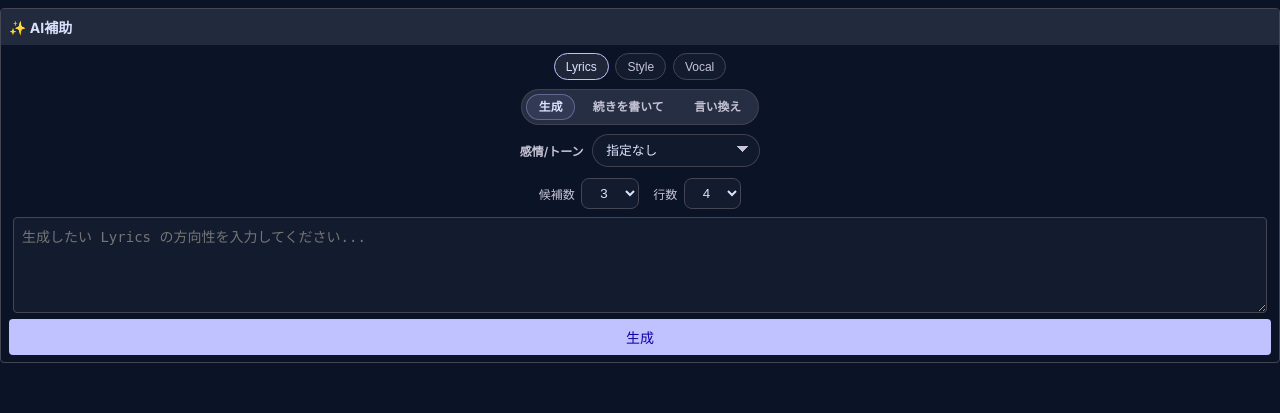
Test: LLMAssistPanel › error handling › should show error when baseUrl is not localhost
What coordinates should you click on to do the following:
click the button "生成"
I would click on:
 (640, 337)
Its box is [9,319,1271,355].
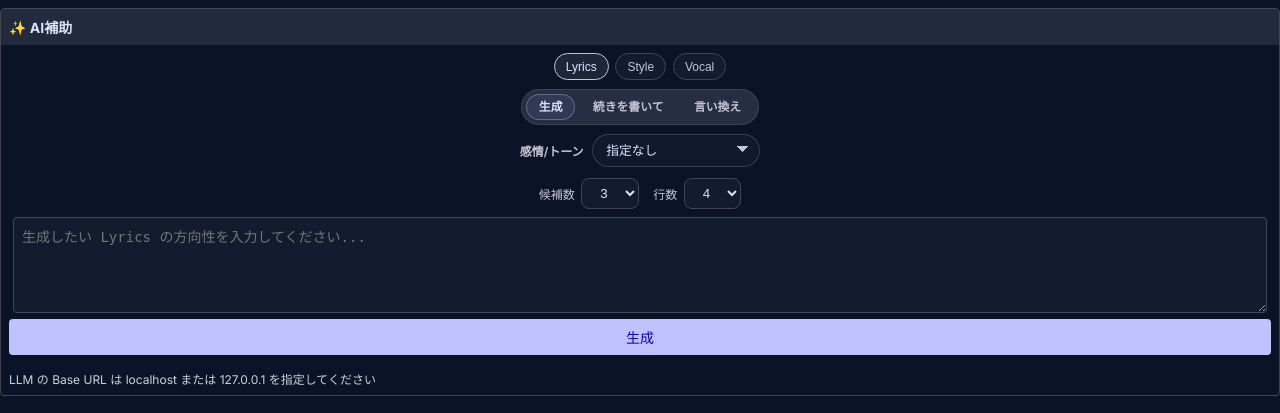
Result: the text "LLM の Base URL は localhost または 127.0.0.1 を指定してください" is shown at [9,372,376,387]
